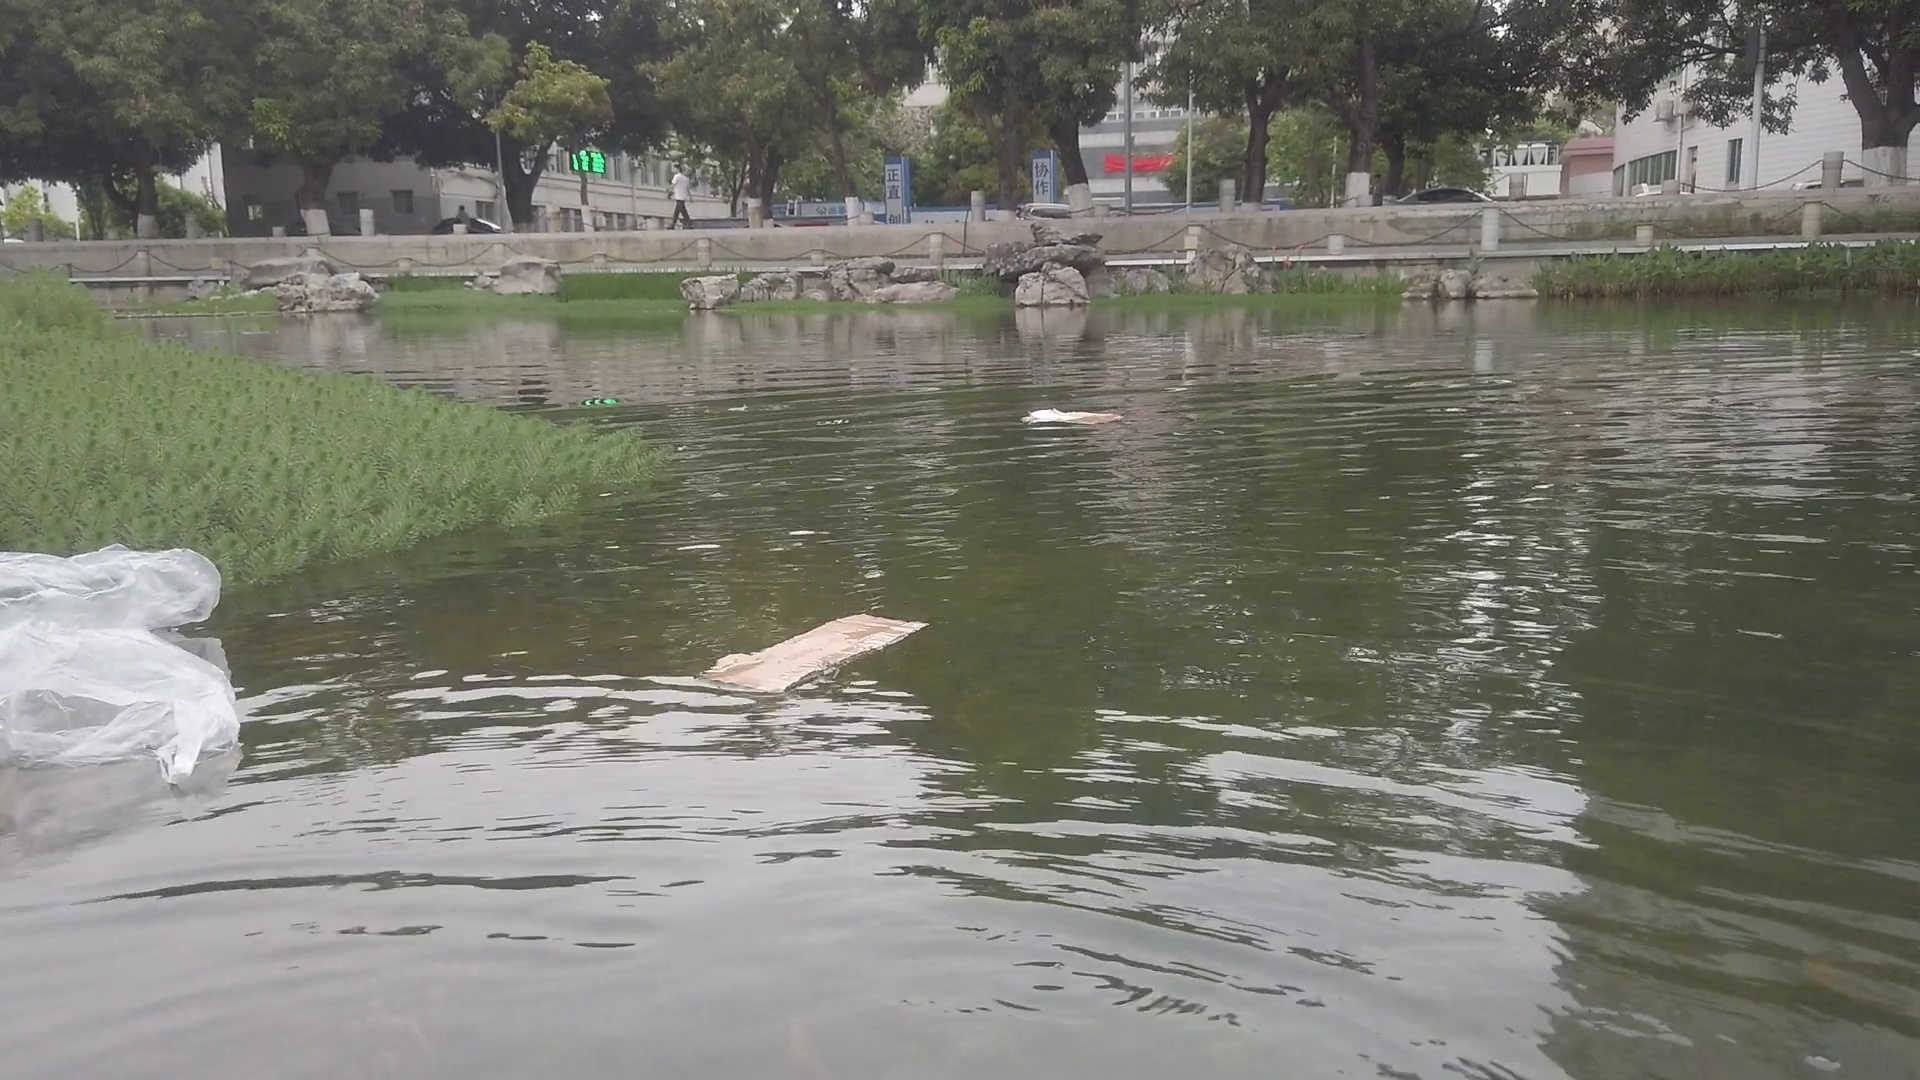paper: (709, 600, 913, 700), (1021, 406, 1127, 430)
plastic: (12, 630, 240, 786), (7, 549, 233, 638)
